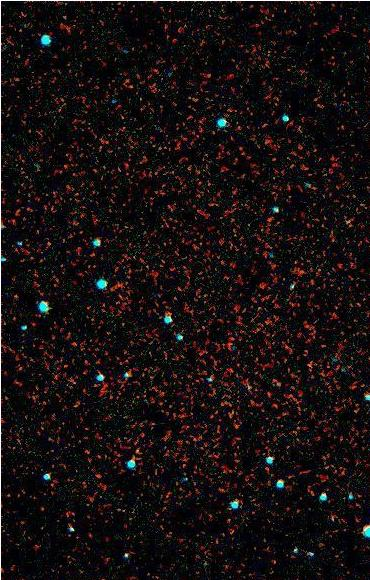star: (130, 435, 160, 465)
